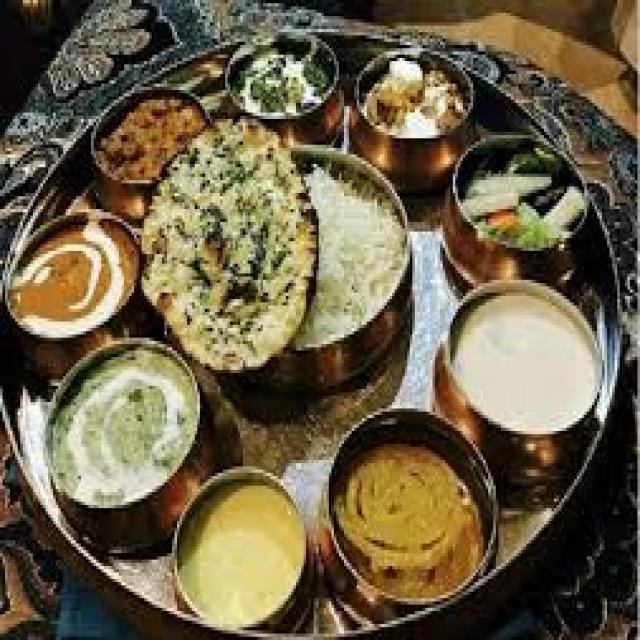curd: (34, 331, 204, 527), (435, 279, 610, 444)
rice: (131, 112, 324, 377)
sweet: (5, 220, 136, 341), (90, 80, 206, 196)
